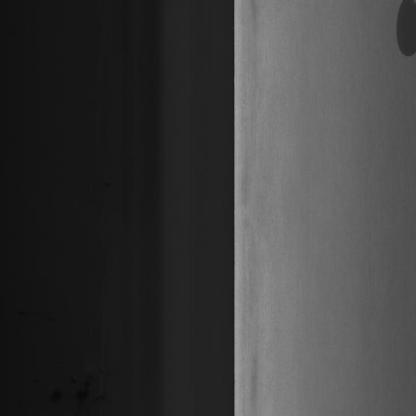oil_spot: (383, 0, 416, 72)
